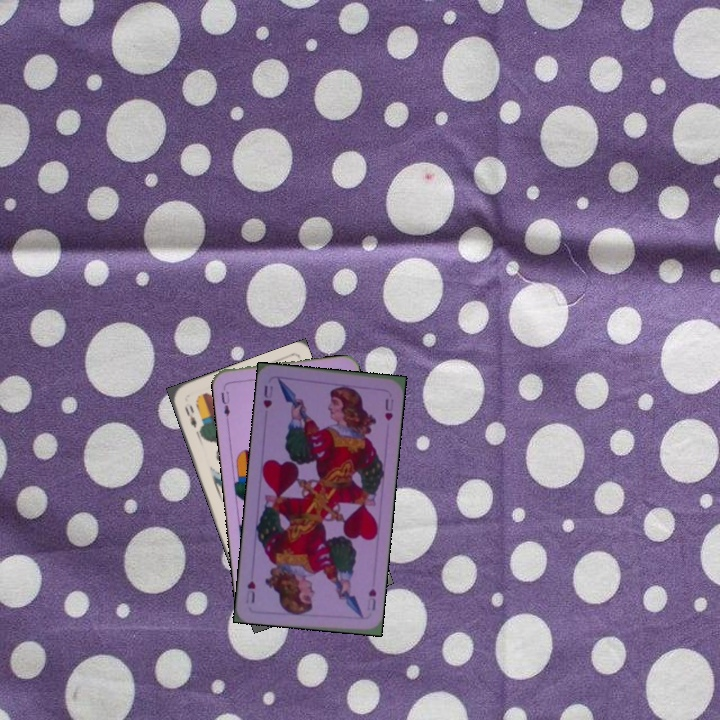EO: (180, 401, 199, 430)
EU: (217, 383, 233, 419)
HU: (259, 381, 276, 411), (363, 584, 379, 613)
